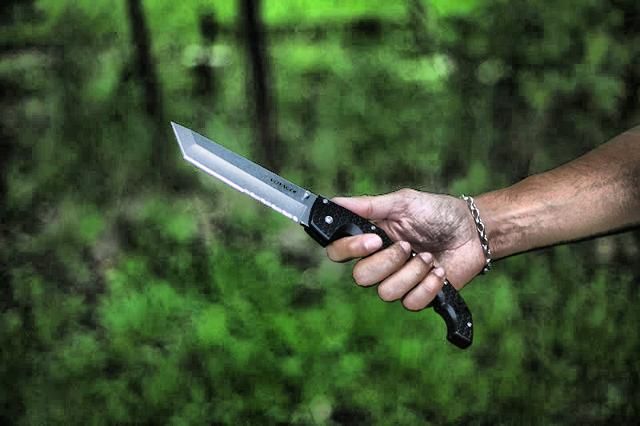knife: (164, 112, 482, 352)
